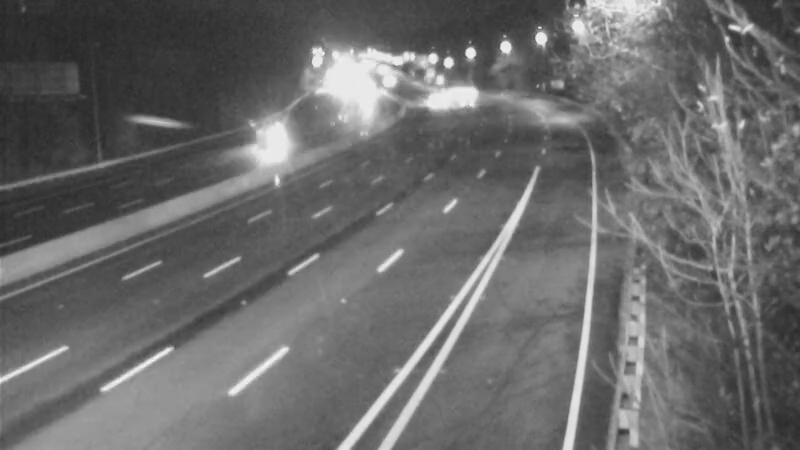vehicle: (362, 57, 412, 107), (445, 67, 495, 117), (404, 73, 454, 123), (434, 81, 484, 131), (241, 117, 291, 167)
